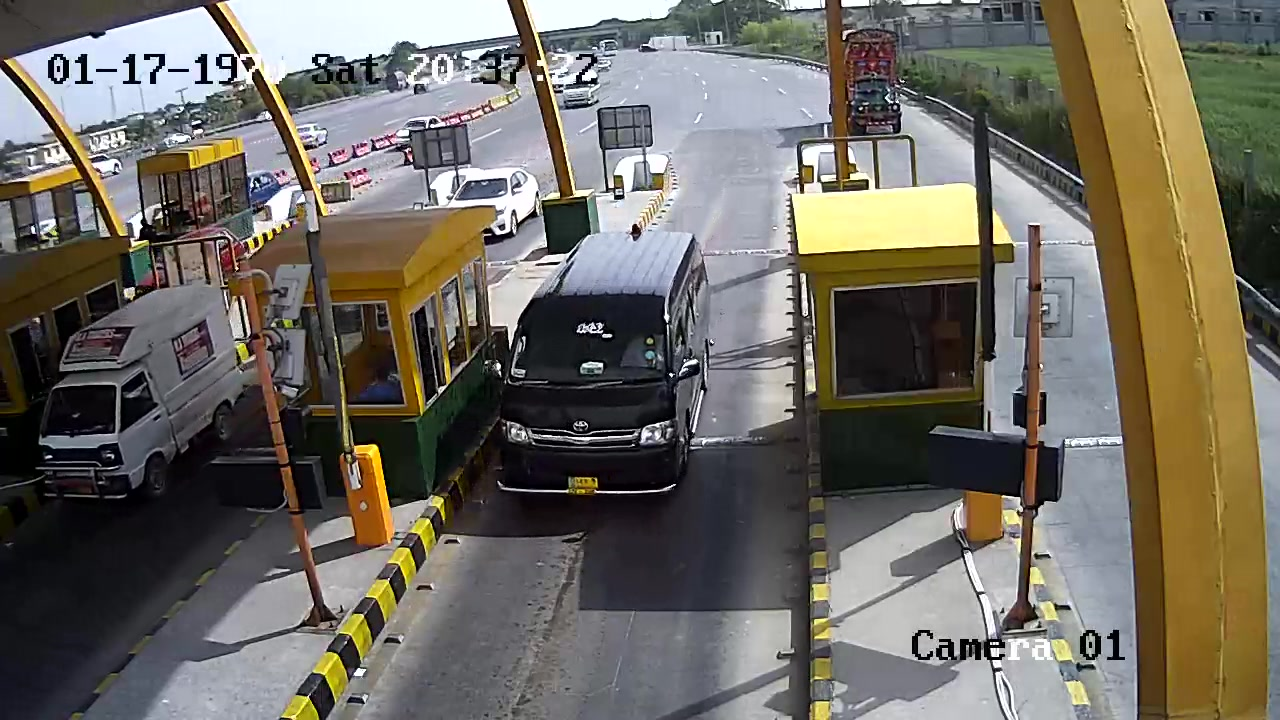F2: (485, 217, 727, 523)
